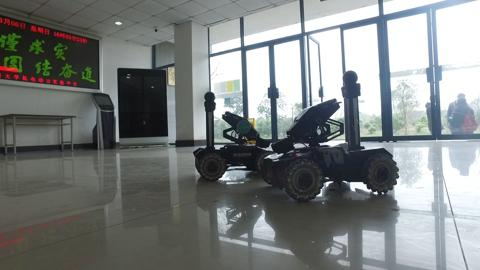chariot: (263, 65, 400, 201), (190, 89, 284, 183)
